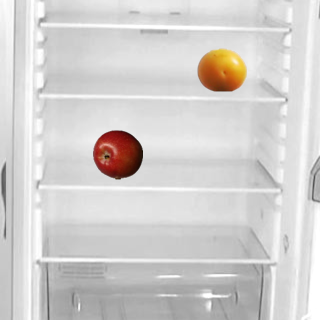Apple Braeburn: (92, 129, 142, 179)
Cherry Wax Yellow: (196, 44, 246, 94)
